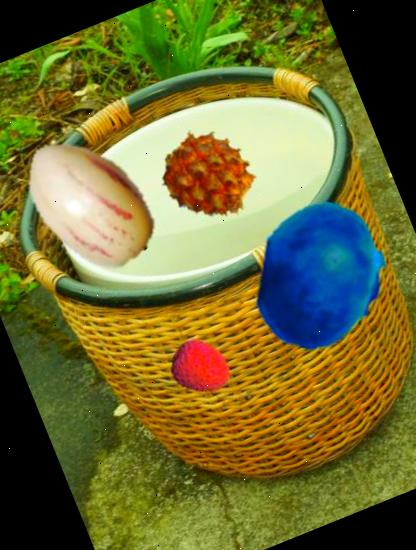Grape: (301, 227, 379, 305)
Huckleberry: (225, 179, 416, 373)
Lychee: (162, 328, 240, 406)
Pepino: (0, 103, 185, 298)
Pineapple: (148, 114, 270, 236)
